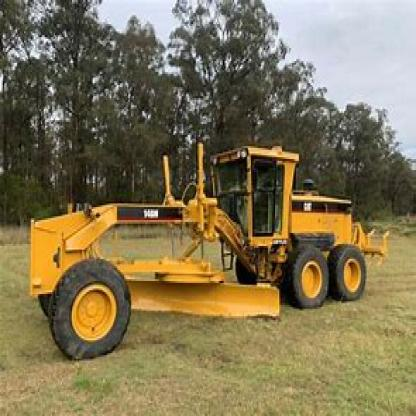bull_dozer/loader/grader: (34, 135, 389, 364)
